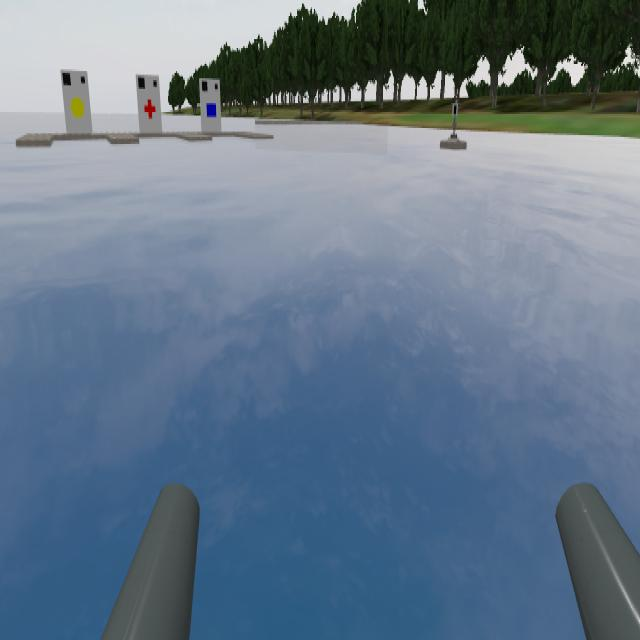black_pole: (448, 91, 464, 121)
